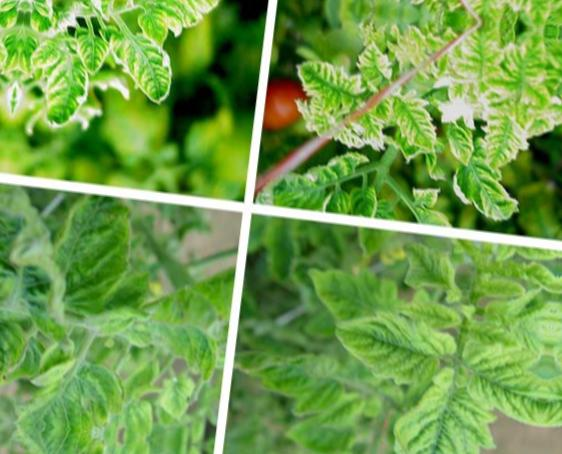Tomato mold leaf: (0, 338, 148, 438), (314, 303, 467, 397), (40, 188, 140, 323), (377, 361, 506, 454), (456, 342, 549, 440)
